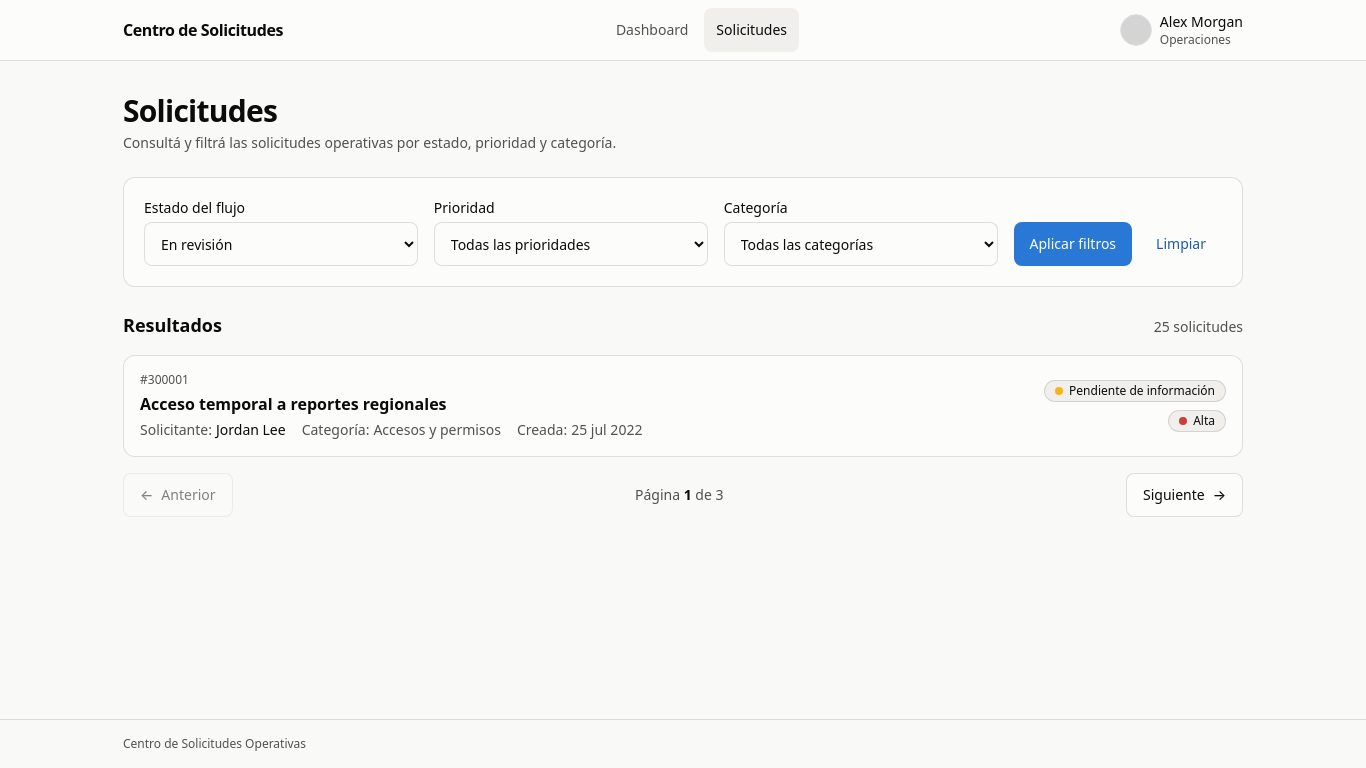
Test: Requests list › paginates keeping the active filters
Expected: the text "#300001" is shown, top-left (139, 370), bottom-right (215, 388)
Click the button "Siguiente →" at (1184, 495), box top-left (1126, 473), bottom-right (1243, 517)
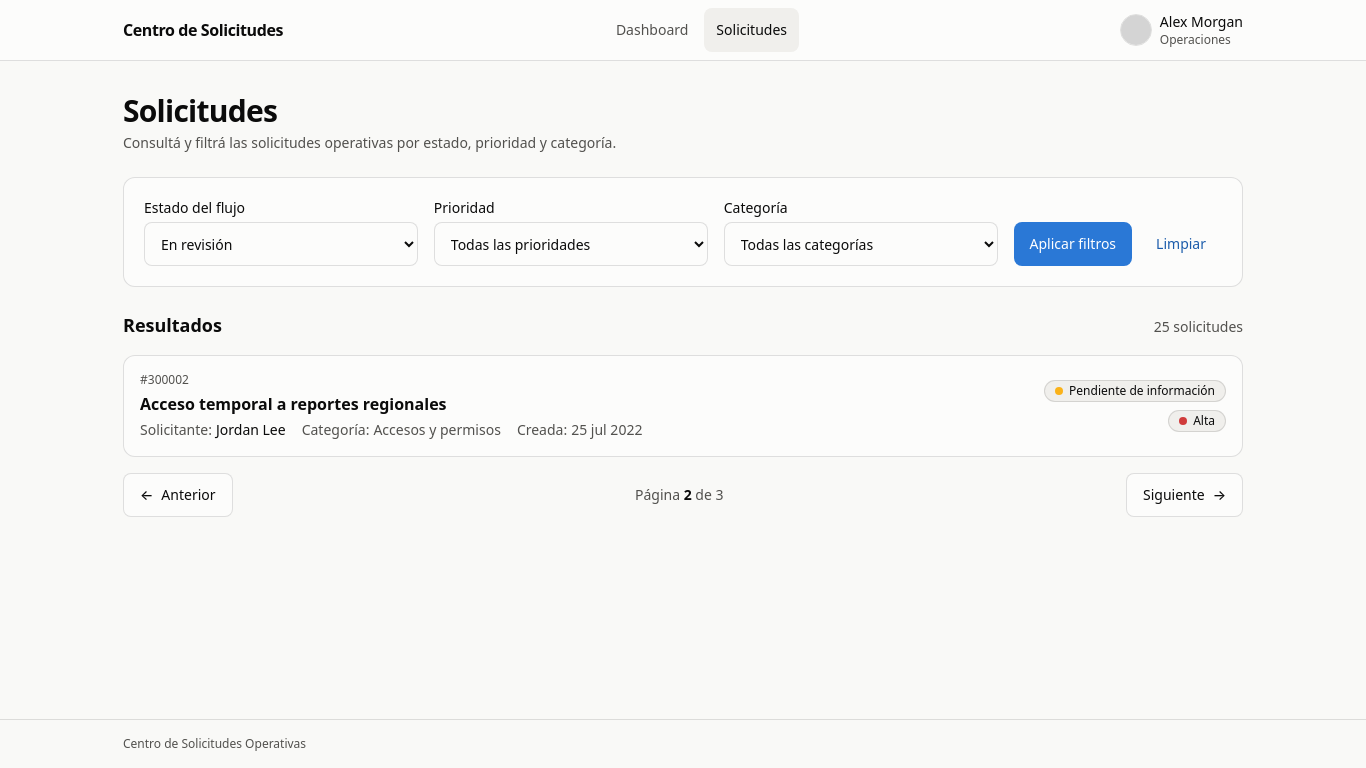
Now the text "#300002" is shown, box top-left (139, 370), bottom-right (215, 388)
Now the navigation bar named "Paginación" shows "Página 2 de 3", box top-left (123, 473), bottom-right (1243, 517)
